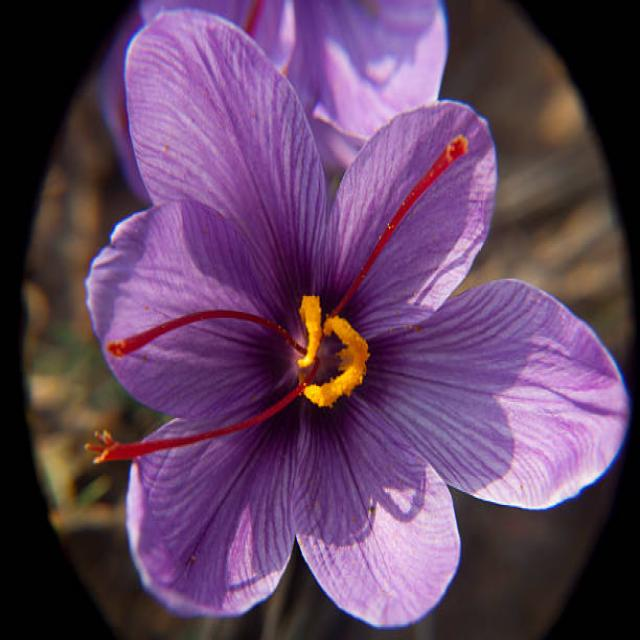saffron open: (86, 10, 629, 626)
